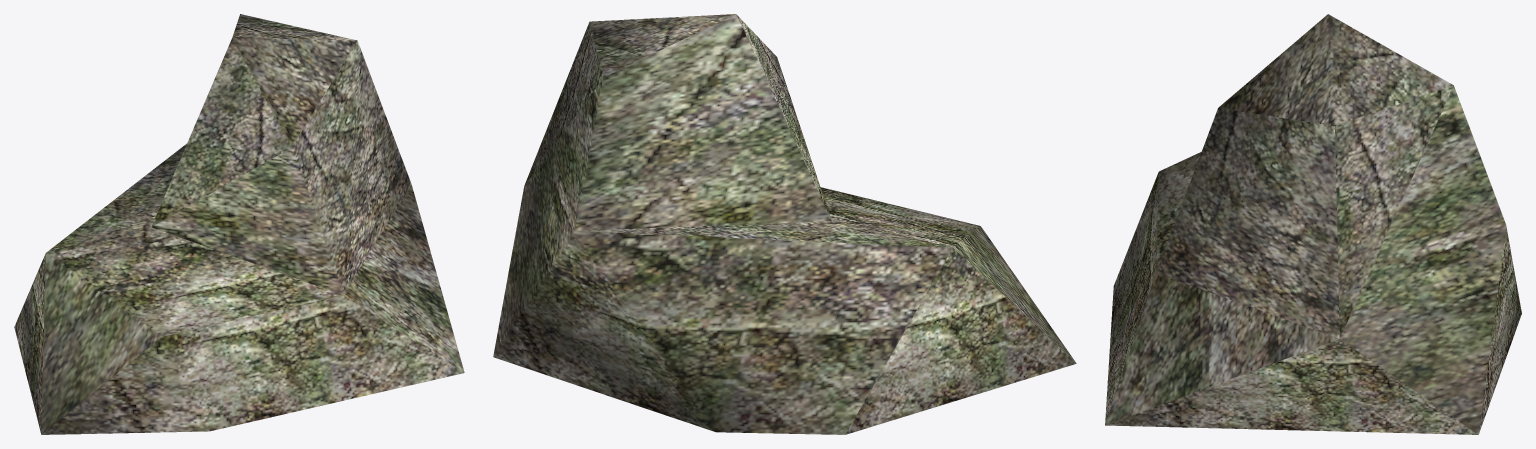
Rendered from general_obj_pieceofstone01 .fbx.
3 renders of one model, left to right at view 1: azimuth 30°, elevation 25°; view 2: azimuth 150°, elevation 25°; view 3: azimuth 270°, elevation 25°, orthographic. The views are drawn at different scales.
Visible parts, largest first — view 1: Object02; view 2: Object02; view 3: Object02.
Boxes of the visible parts, <box> form: Object02: <box>14,14,464,434</box>; Object02: <box>493,14,1076,434</box>; Object02: <box>1105,14,1521,434</box>.
Size of the model in its own units: 0.5147 by 0.3364 by 0.3774.
